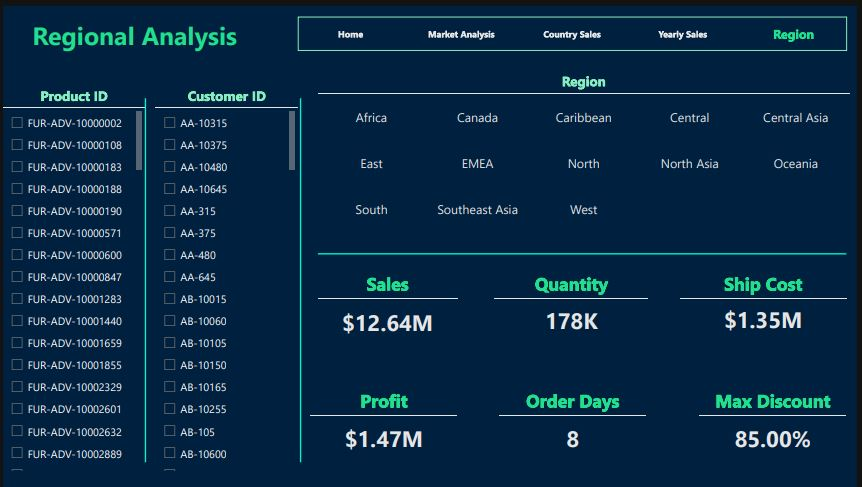

Layout of this report page (visuals, bound fields, positions):
{"tool":"powerbi","page":{"name":"Region","canvas":[1280,720],"ordinal":4},"visuals":[{"type":"textbox","box":[0,14.3,395.1,84],"z":1000},{"type":"card","title":"Sales","fields":{"Values":["Sum(Sales Data.Sales)"]},"box":[472,396.9,209.2,110.8],"z":4000},{"type":"advancedSlicerVisual","title":"Region","fields":{"Values":["Sales Data.Region"]},"box":[472,98.3,797.3,241.3],"z":5000},{"type":"shape","box":[472,359.3,792,23.2],"z":6000},{"type":"card","title":"Quantity","fields":{"Values":["Sum(Sales Data.Quantity)"]},"box":[736.5,396.9,230.6,105.5],"z":7000},{"type":"card","title":"Ship Cost","fields":{"Values":["Sum(Sales Data.Shipping_Cost)"]},"box":[1015.4,396.9,248.5,101.9],"z":8000},{"type":"card","title":"Max Discount","fields":{"Values":["Max(Sales Data.Discount)"]},"box":[1044,572.1,219.9,109.1],"z":9000},{"type":"card","title":"Order Days","fields":{"Values":["Count(Sales Data.Order Delivery)"]},"box":[743.7,572.1,219.9,109.1],"z":10000},{"type":"card","title":"Profit","fields":{"Values":["Sum(Sales Data.Profit)"]},"box":[461.2,572.1,219.9,109.1],"z":11000},{"type":"pageNavigator","box":[442.4,15.9,822.7,50.6],"z":11001},{"type":"slicer","title":"Product ID","fields":{"Values":["Sales Data.Product_ID"]},"box":[0,119.8,212.7,579.2],"z":11002},{"type":"slicer","title":"Customer ID","fields":{"Values":["Sales Data.Customer_ID"]},"box":[228.8,119.8,212.7,579.2],"z":11003},{"type":"shape","box":[430.8,137.7,30.4,545.3],"z":11004},{"type":"shape","box":[198.4,137.7,30.4,545.3],"z":11005}]}

Visuals, with their boxes in screenshot pixels (x1, y1, x2, y2), scaled from the page's 1280x720 canvas onto the 862x487 screenshot:
textbox: (0, 10, 266, 66)
"Sales" card: (318, 268, 459, 343)
"Region" advancedSlicerVisual: (318, 66, 855, 230)
shape: (318, 243, 851, 259)
"Quantity" card: (496, 268, 651, 340)
"Ship Cost" card: (684, 268, 851, 337)
"Max Discount" card: (703, 387, 851, 461)
"Order Days" card: (501, 387, 649, 461)
"Profit" card: (311, 387, 459, 461)
pageNavigator: (298, 11, 852, 45)
"Product ID" slicer: (0, 81, 143, 473)
"Customer ID" slicer: (154, 81, 297, 473)
shape: (290, 93, 311, 462)
shape: (134, 93, 154, 462)
